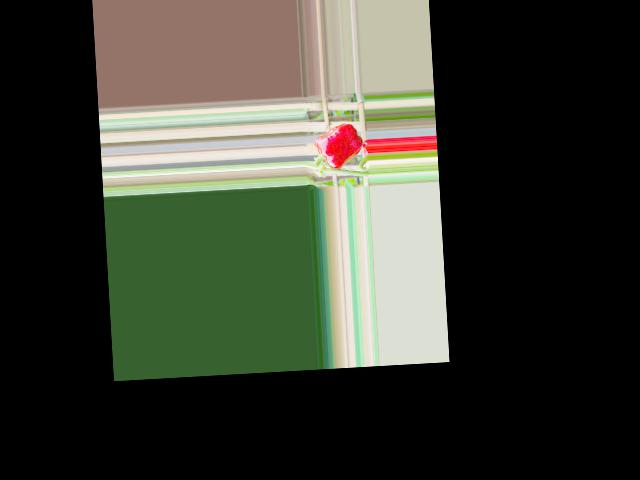bell_pepper: (313, 119, 363, 173)
